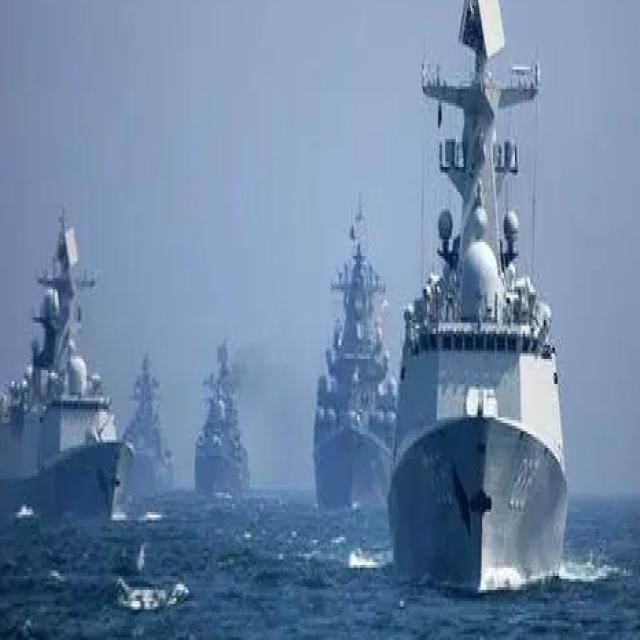navalvessels: (387, 0, 574, 584), (0, 211, 120, 523), (310, 182, 402, 509), (192, 329, 248, 500), (121, 346, 174, 511)
